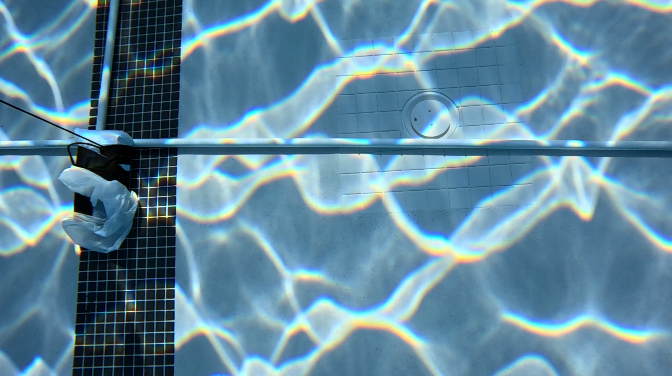sandbag: (60, 126, 133, 252)
